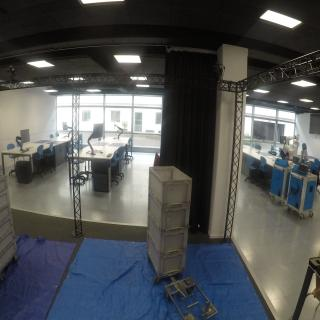Box4G: (149, 211, 191, 257), (150, 190, 193, 234), (149, 166, 194, 208), (148, 232, 188, 277)
